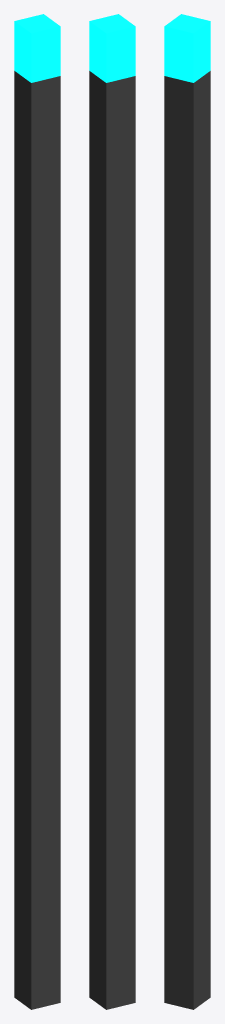
The model's file is Hangar_SingularGuidePost_01.fbx.
3 renders of one model, left to right at view 1: azimuth 30°, elevation 25°; view 2: azimuth 210°, elevation 25°; view 3: azimuth 330°, elevation 25°, orthographic.
Visible parts, largest first — view 1: SingularGuidePost_01; view 2: SingularGuidePost_01; view 3: SingularGuidePost_01.
Part boxes in pixels (x1,y1,x2,y2): SingularGuidePost_01: [14, 14, 60, 1009]; SingularGuidePost_01: [89, 14, 135, 1009]; SingularGuidePost_01: [164, 14, 210, 1009].
Bounding box in the file's own units: 18.85 × 602 × 18.85.
